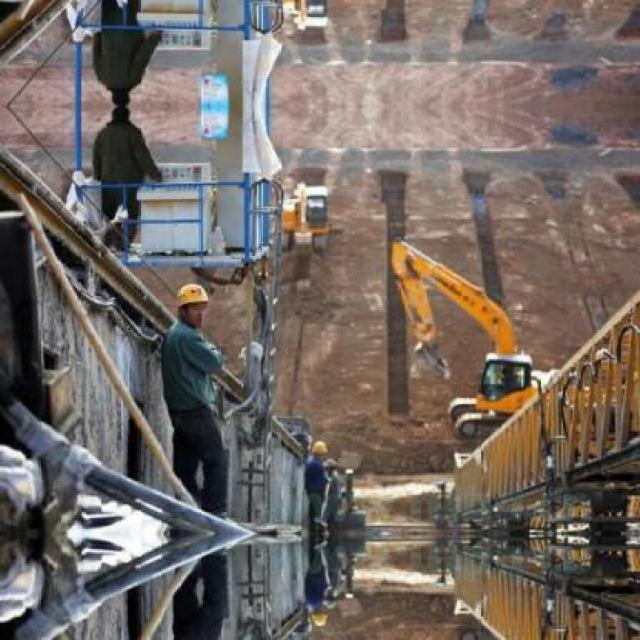hat: (172, 279, 214, 316), (310, 440, 330, 454)
